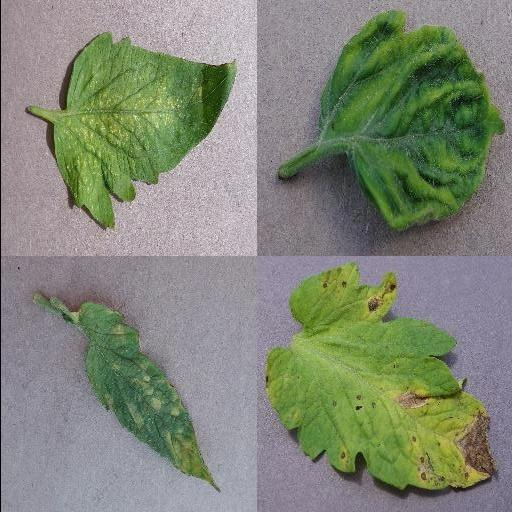Leaf Mold: (76, 303, 214, 484)
Septoria: (262, 263, 498, 491)
Spider Mites: (51, 31, 235, 231)
Yellow Leaf Curl Virus: (316, 11, 506, 230)
